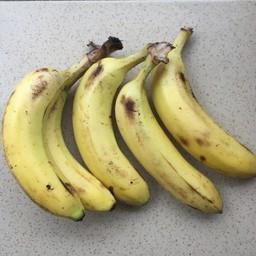Good_banana: (116, 43, 222, 220), (156, 28, 256, 188), (5, 62, 83, 231), (78, 53, 149, 216)
